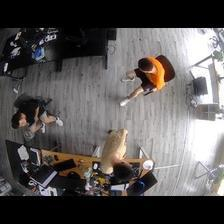normal: (115, 53, 170, 107), (9, 94, 63, 143), (98, 127, 134, 181)
